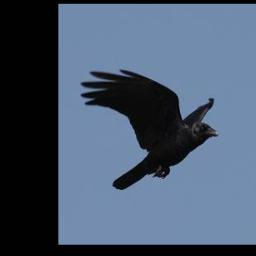Crow: (79, 67, 220, 190)
